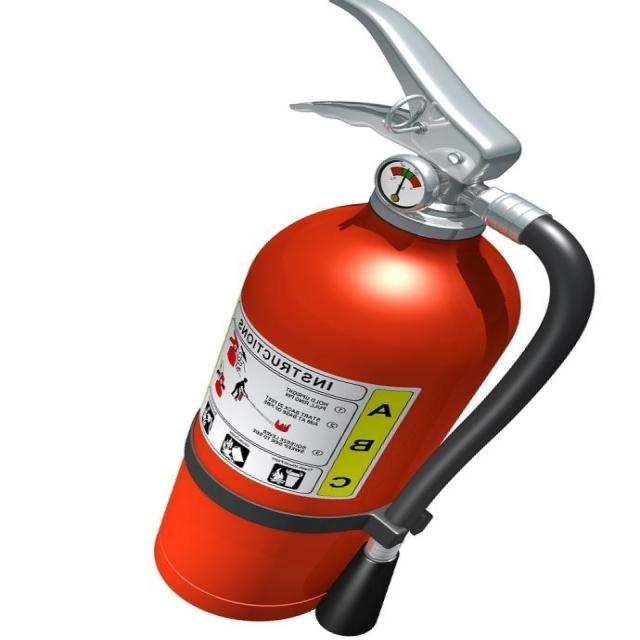fire_extinguisher: (142, 0, 606, 637)
